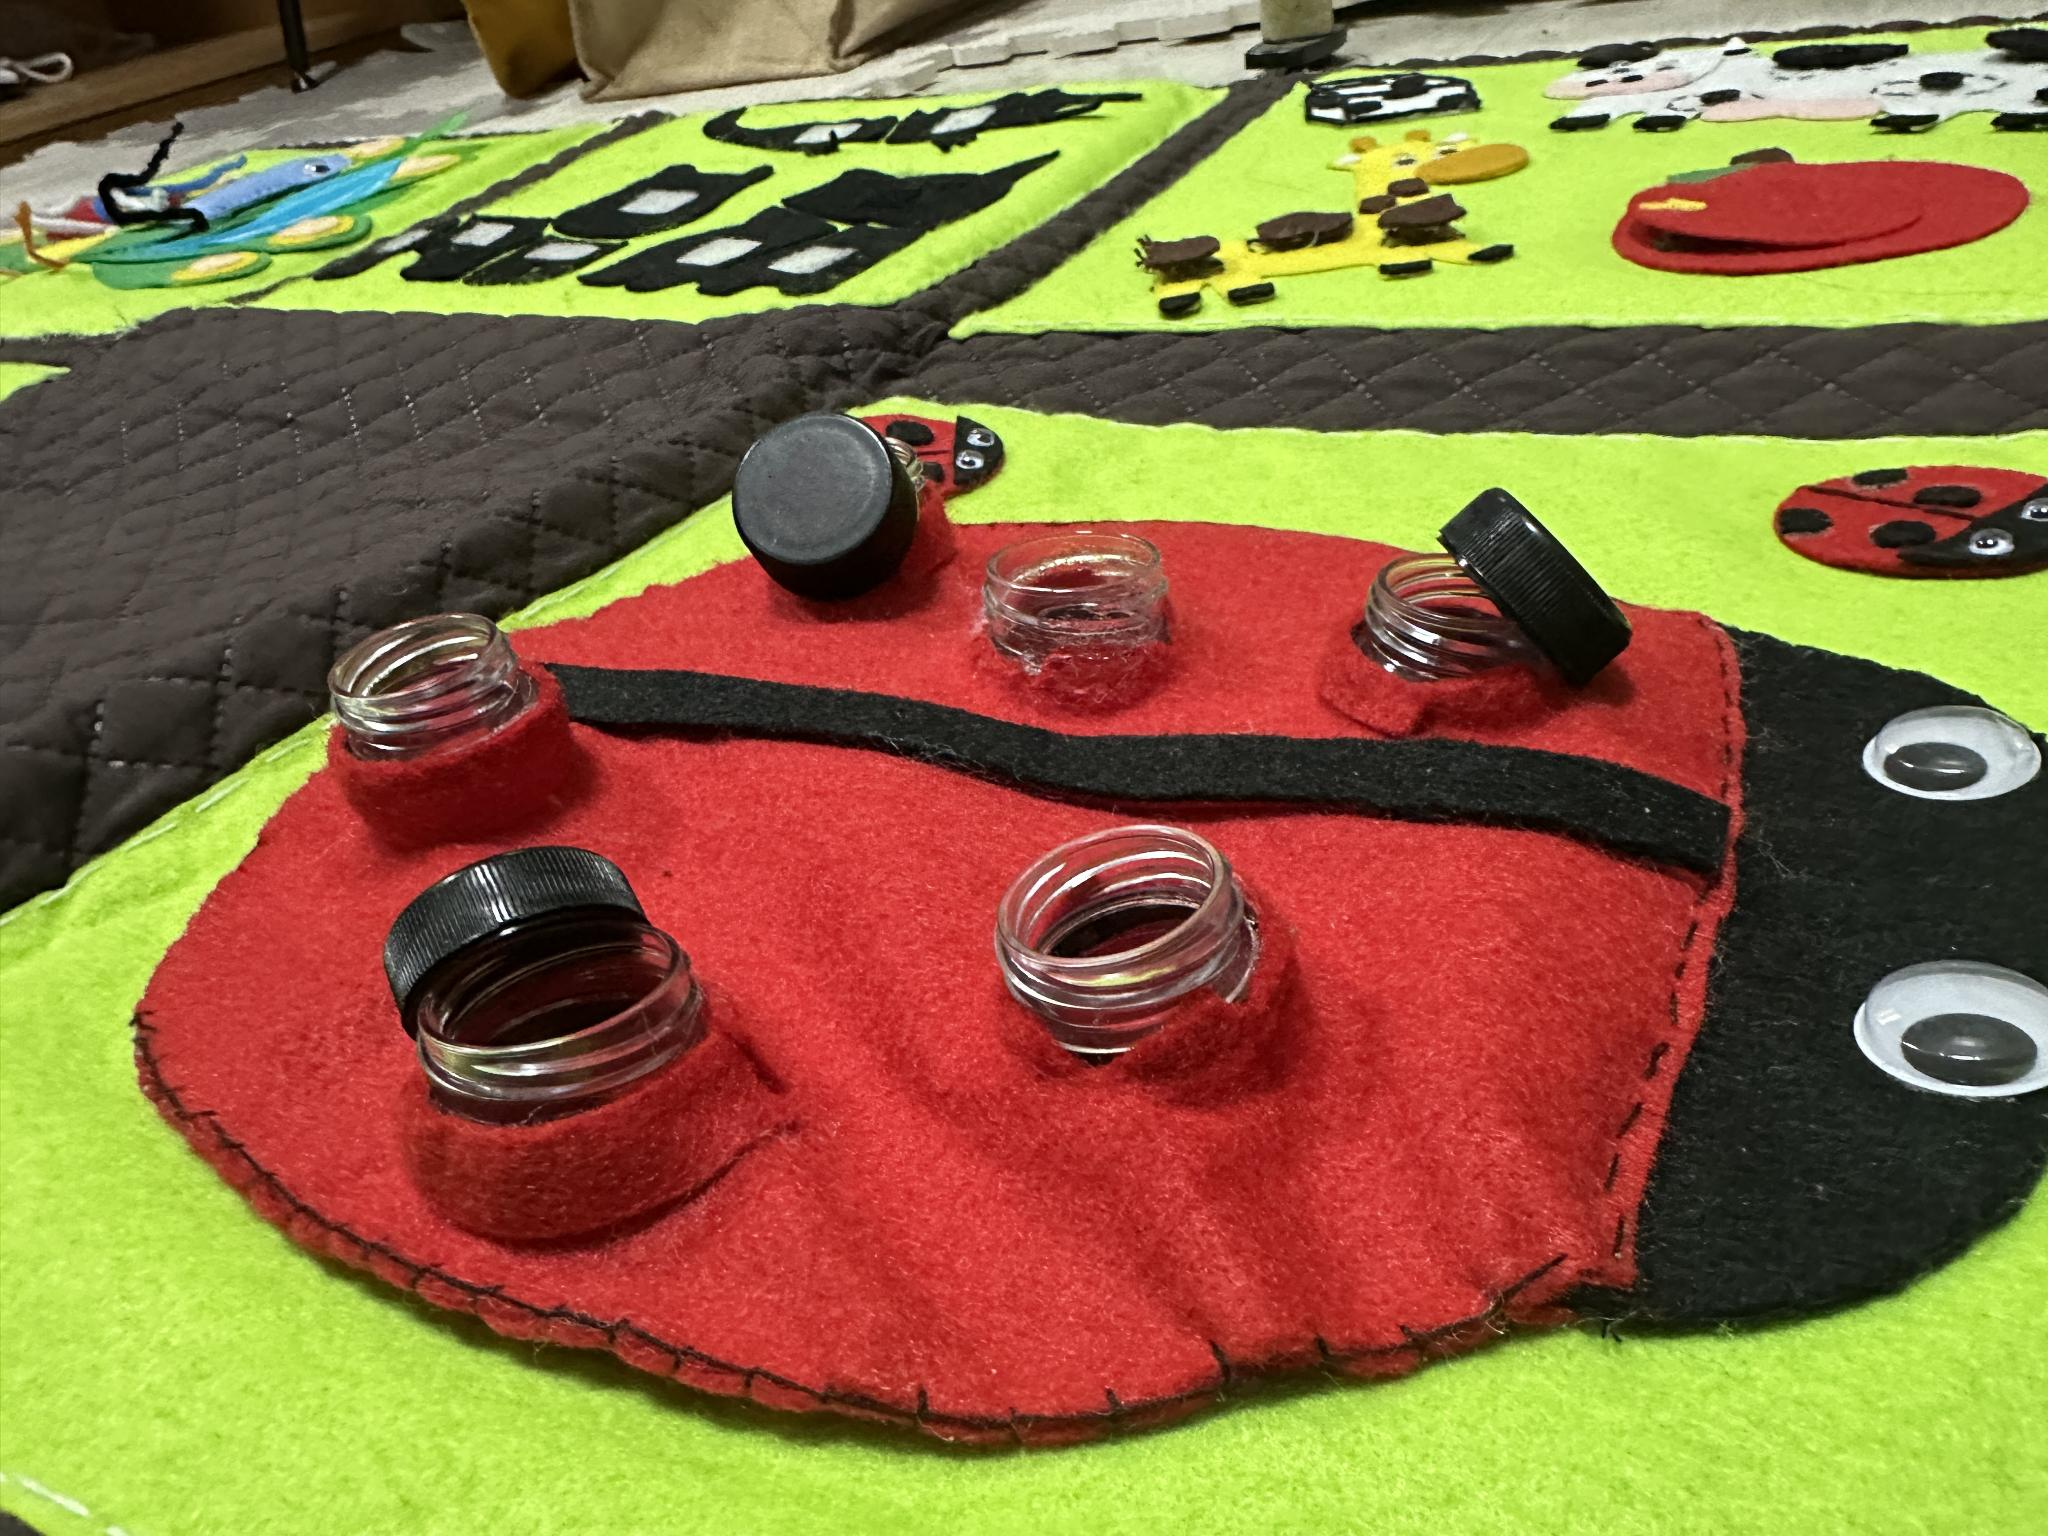cap_ng: (376, 844, 763, 1260), (1322, 463, 1634, 726), (722, 400, 953, 610)
